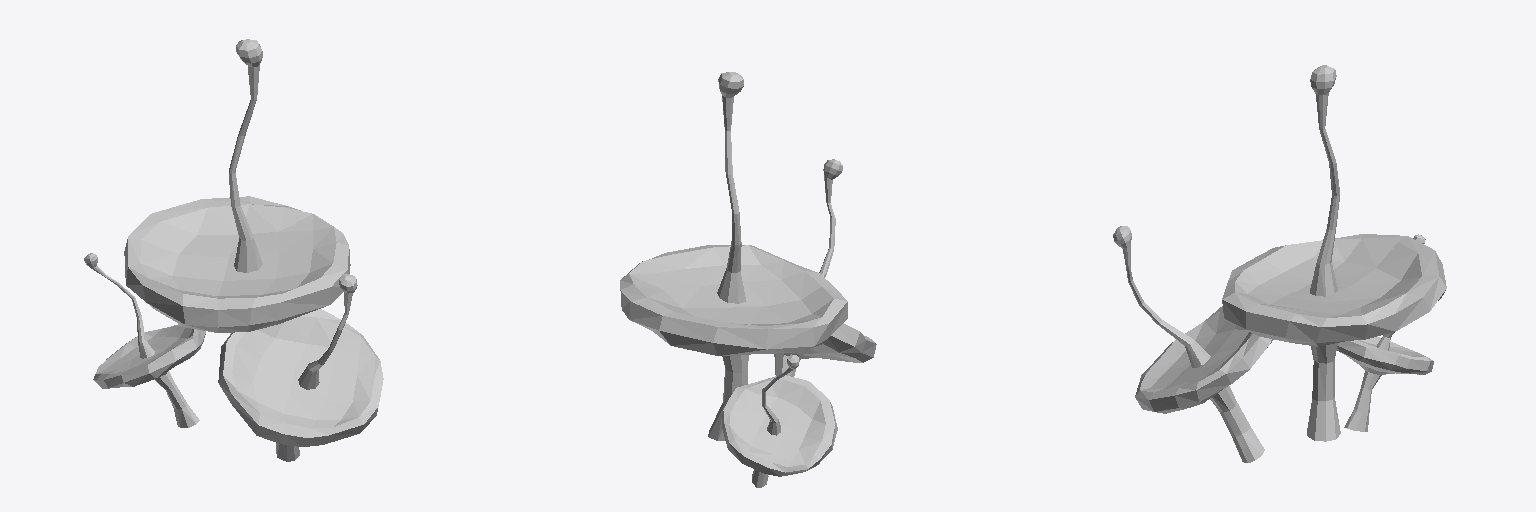
Rendered from AlienPlant.obj.
3 renders of one model, left to right at view 1: azimuth 30°, elevation 25°; view 2: azimuth 150°, elevation 25°; view 3: azimuth 270°, elevation 25°, orthographic.
Visible parts, largest first — view 1: Object003_Mesh; view 2: Object003_Mesh; view 3: Object003_Mesh.
Part boxes in pixels (bbox=[...]): Object003_Mesh: bbox=[84, 39, 383, 461]; Object003_Mesh: bbox=[620, 72, 876, 487]; Object003_Mesh: bbox=[1113, 65, 1446, 462].
Bounding box in the file's own units: 4.78 × 8.29 × 6.4.